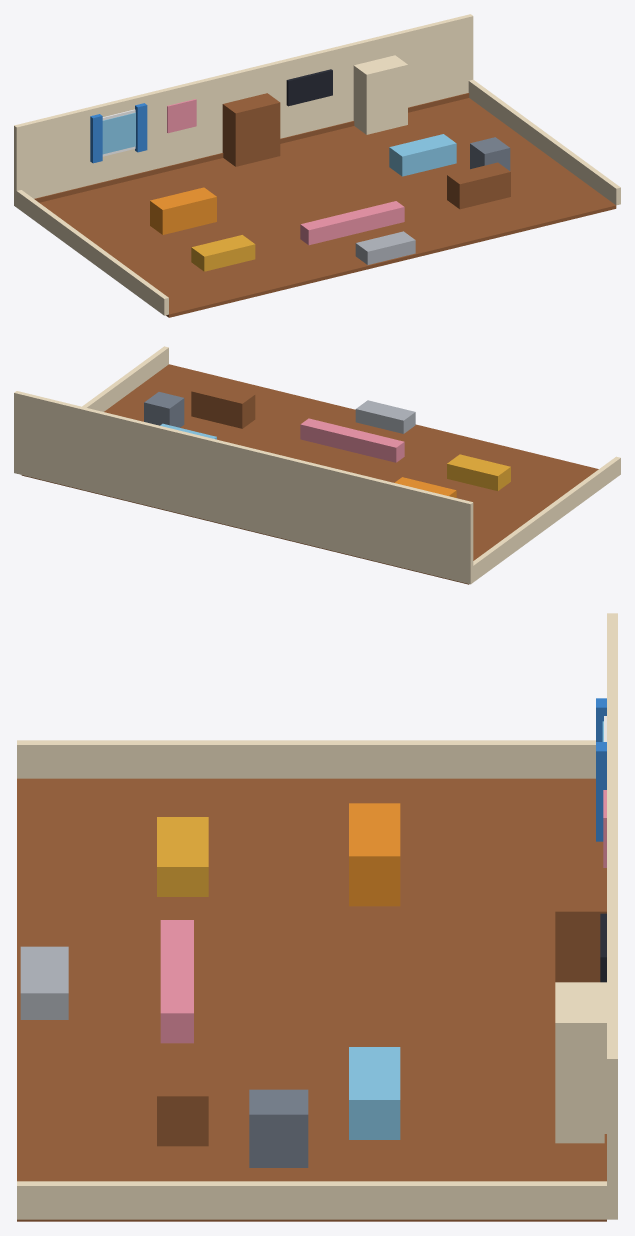
The model's file is SM_room_rental.glb.
3 views of the same model, one above another, from view 1: azimuth 30°, elevation 25°; view 2: azimuth 150°, elevation 25°; view 3: azimuth 270°, elevation 25° (orthographic). The views are drawn at different scales.
Visible parts, largest first — view 1: SM_room_rental_shell, PH_4_cabinet, PH_2_shelf, PH_10_heavy, PH_5_sofa, PH_8_drawer, PH_6_bed, PH_7_table, PH_11_cart, PH_9_bin; view 2: SM_room_rental_shell, PH_10_heavy, PH_8_drawer, PH_7_table, PH_11_cart, PH_9_bin, PH_5_sofa; view 3: SM_room_rental_shell, PH_4_cabinet, PH_2_shelf, PH_5_sofa, PH_8_drawer, PH_6_bed, PH_9_bin, PH_10_heavy, PH_7_table, PH_11_cart.
Part boxes in pixels (left/top/right/bottom): SM_room_rental_shell: left=14, top=14, right=620, bottom=317; PH_4_cabinet: left=353, top=55, right=407, bottom=134; PH_2_shelf: left=222, top=93, right=280, bottom=166; PH_10_heavy: left=300, top=201, right=404, bottom=245; PH_5_sofa: left=150, top=187, right=216, bottom=234; PH_8_drawer: left=447, top=162, right=510, bottom=209; PH_6_bed: left=389, top=134, right=456, bottom=176; PH_7_table: left=191, top=235, right=255, bottom=271; PH_11_cart: left=355, top=231, right=415, bottom=264; PH_9_bin: left=470, top=137, right=510, bottom=170; SM_room_rental_shell: left=14, top=346, right=620, bottom=584; PH_10_heavy: left=300, top=418, right=404, bottom=462; PH_8_drawer: left=191, top=382, right=255, bottom=428; PH_7_table: left=447, top=454, right=510, bottom=490; PH_11_cart: left=355, top=400, right=415, bottom=433; PH_9_bin: left=144, top=392, right=184, bottom=427; PH_5_sofa: left=394, top=477, right=456, bottom=497; SM_room_rental_shell: left=17, top=613, right=617, bottom=1221; PH_4_cabinet: left=555, top=982, right=606, bottom=1143; PH_2_shelf: left=555, top=868, right=606, bottom=982; PH_5_sofa: left=349, top=803, right=400, bottom=906; PH_8_drawer: left=157, top=1046, right=208, bottom=1146; PH_6_bed: left=349, top=1047, right=400, bottom=1139; PH_9_bin: left=249, top=1089, right=308, bottom=1167; PH_10_heavy: left=160, top=920, right=193, bottom=1043; PH_7_table: left=157, top=817, right=208, bottom=896; PH_11_cart: left=20, top=946, right=68, bottom=1019.
Size of the model in its own units: 14.3 by 2.5 by 8.15.
Materials: 1 (1 with a texture image).
